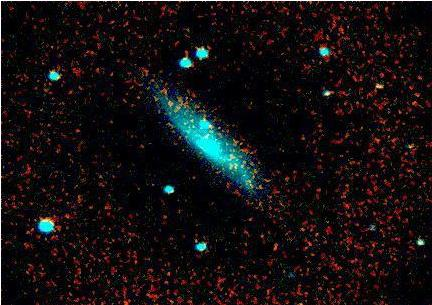star: (158, 91, 188, 121)
